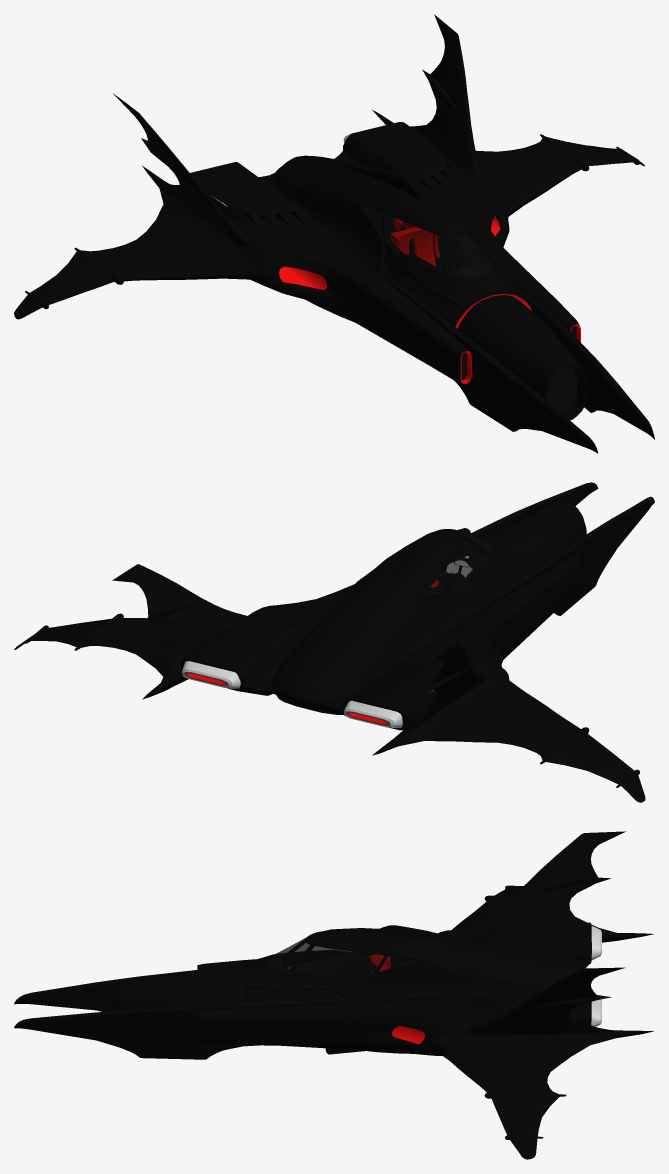
Rendered from wraith.glb.
The picture shows the model from 3 angles, top to bottom: view 1: azimuth 30°, elevation 25°; view 2: azimuth 150°, elevation 25°; view 3: azimuth 270°, elevation 25°; orthographic projection. The views are drawn at different scales.
Parts seen in each view (by area): view 1: Material2_3, Material2_13, Material2_5, Material2_7, Material2_2, Material2_8; view 2: Material2_3, Material2_13, Material2_12; view 3: Material2_3, Material2_13, Material2_2, Material2_12.
Boxes of the visible parts, <box> form: Material2_3: <box>14,14,654,453</box>; Material2_13: <box>363,204,493,278</box>; Material2_5: <box>390,218,439,266</box>; Material2_7: <box>461,325,577,412</box>; Material2_2: <box>380,220,481,315</box>; Material2_8: <box>279,216,531,328</box>; Material2_3: <box>14,482,654,802</box>; Material2_13: <box>424,533,493,594</box>; Material2_12: <box>181,661,402,727</box>; Material2_3: <box>14,831,653,1159</box>; Material2_13: <box>266,937,417,980</box>; Material2_2: <box>283,952,398,978</box>; Material2_12: <box>591,926,601,1026</box>.
Size of the model in its own units: 339 by 88.56 by 346.
11 materials, 2 textured.
